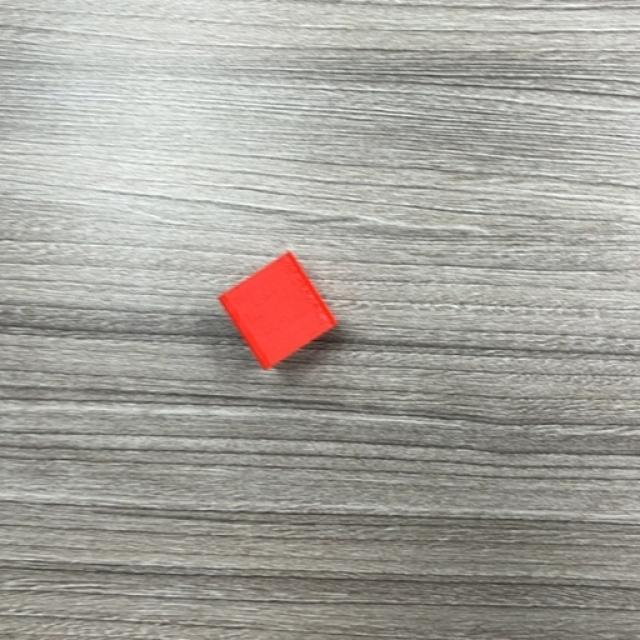Rojo: (218, 251, 339, 371)
